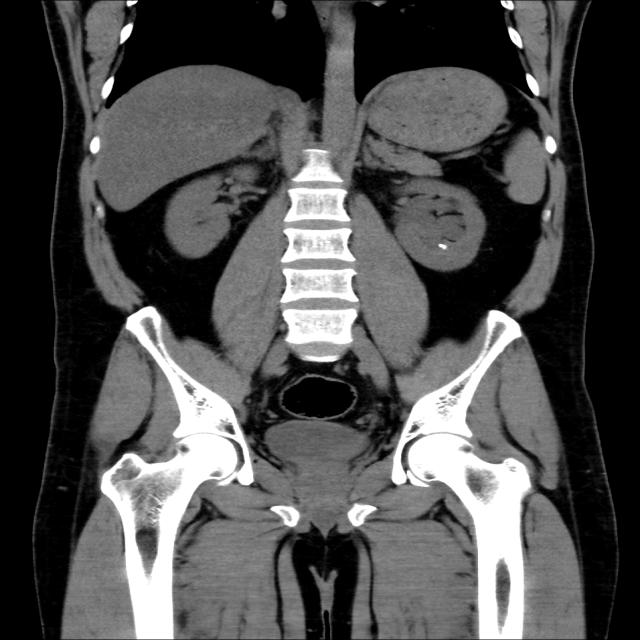kidneystone: (436, 241, 448, 250)
